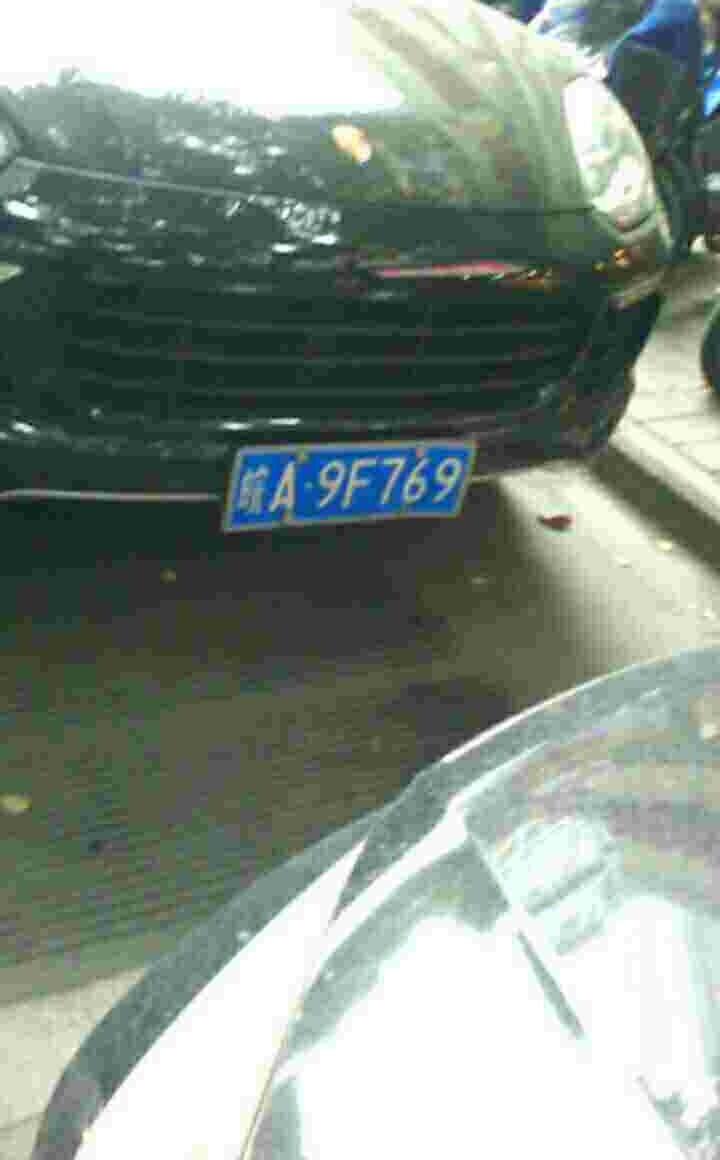plate: (230, 437, 481, 530)
